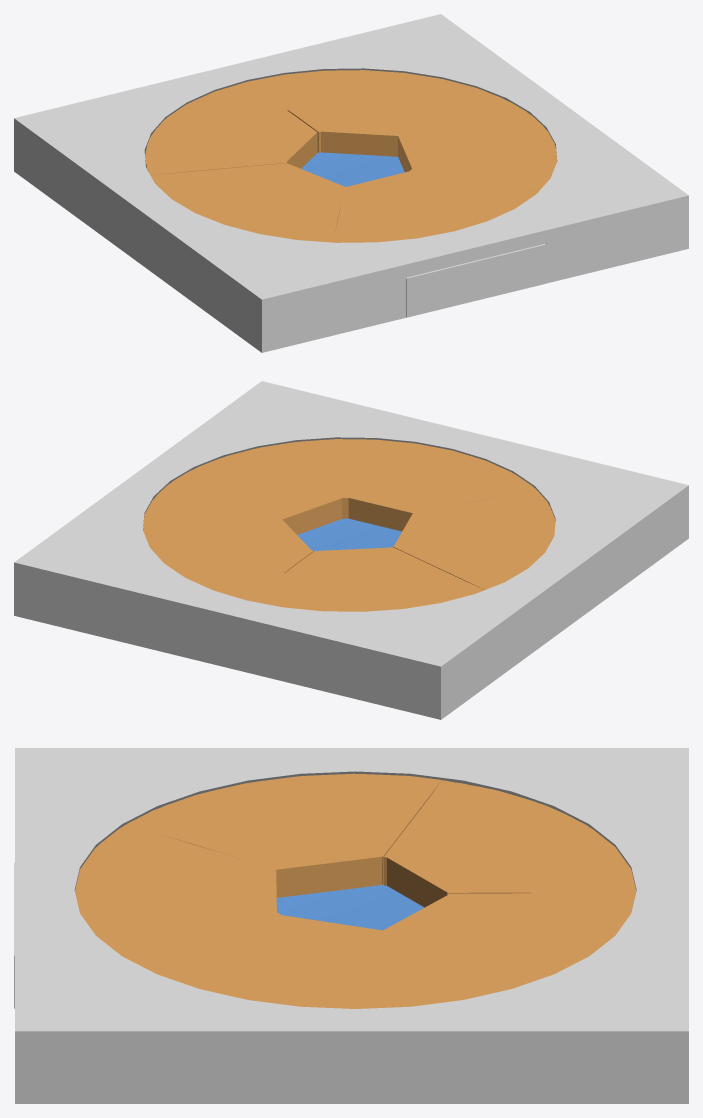
File: Pentagon.fbx
The picture shows the model from 3 angles, top to bottom: view 1: azimuth 30°, elevation 25°; view 2: azimuth 150°, elevation 25°; view 3: azimuth 270°, elevation 25°; orthographic projection. The views are drawn at different scales.
Visible parts, largest first — view 1: Body, ピース4-3, ピース3-4, ピース5-3, ピース1-3, ピース2-3, Slide, ピース2-4, ピース1-4, ピース3-2, ピース1-1, ピース2-2 (+3 smaller); view 2: Body, ピース3-4, ピース4-3, ピース5-3, ピース1-3, ピース2-3, ピース2-4, ピース1-4, ピース5-2, ピース2-2, ピース1-1, ピース3-2 (+3 smaller); view 3: Body, ピース4-3, ピース3-4, ピース5-3, ピース1-3, ピース2-3, ピース2-4, ピース2-2, ピース4-4, ピース1-1, ピース3-2, ピース1-4 (+4 smaller).
Boxes of the visible parts, x1,y1,x2,y2 form: Body: [14, 14, 688, 352]; ピース4-3: [150, 163, 338, 242]; ピース3-4: [333, 169, 537, 242]; ピース5-3: [146, 83, 315, 175]; ピース1-3: [251, 70, 487, 134]; ピース2-3: [418, 93, 556, 191]; Slide: [406, 243, 546, 317]; ピース2-4: [398, 93, 556, 192]; ピース1-4: [248, 79, 474, 156]; ピース3-2: [333, 206, 417, 242]; ピース1-1: [249, 70, 487, 92]; ピース2-2: [467, 95, 545, 192]; Body: [14, 381, 688, 719]; ピース3-4: [328, 439, 536, 531]; ピース4-3: [395, 490, 553, 589]; ピース5-3: [253, 552, 484, 611]; ピース1-3: [143, 508, 282, 598]; ピース2-3: [149, 439, 338, 506]; ピース2-4: [149, 440, 342, 534]; ピース1-4: [144, 514, 311, 600]; ピース5-2: [248, 573, 353, 609]; ピース2-2: [151, 440, 335, 504]; ピース1-1: [144, 508, 236, 595]; ピース3-2: [437, 472, 534, 503]; Body: [15, 748, 688, 1103]; ピース4-3: [129, 774, 441, 855]; ピース3-4: [75, 824, 276, 960]; ピース5-3: [409, 781, 632, 892]; ピース1-3: [387, 894, 635, 1002]; ピース2-3: [133, 918, 363, 1008]; ピース2-4: [132, 915, 440, 1003]; ピース2-2: [132, 935, 435, 1008]; ピース4-4: [194, 781, 440, 897]; ピース1-1: [445, 913, 629, 1002]; ピース3-2: [95, 825, 214, 862]; ピース1-4: [383, 893, 634, 961].
Size of the model in its own units: 2.38 by 0.2845 by 2.4.
